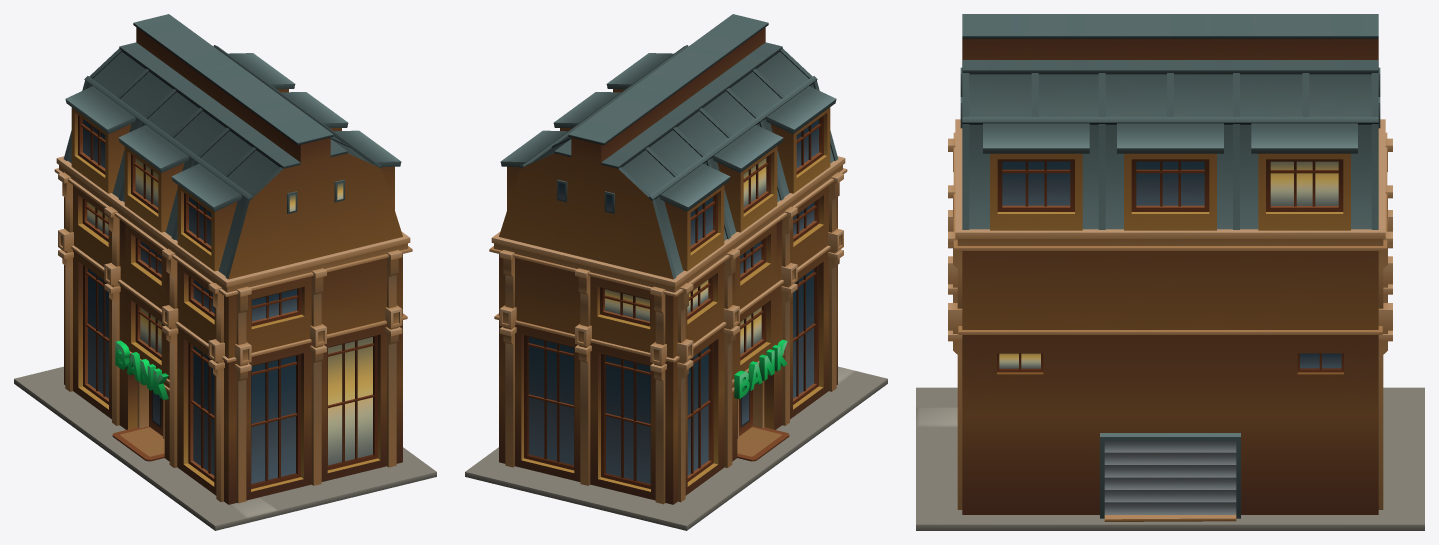
The model's file is Building_10B.fbx.
The picture shows the model from 3 angles, left to right: view 1: azimuth 30°, elevation 25°; view 2: azimuth 150°, elevation 25°; view 3: azimuth 270°, elevation 25°; orthographic projection. The views are drawn at different scales.
Visible parts, largest first — view 1: Building_10B, Window_Lights_10B, Logo_10B; view 2: Building_10B, Window_Lights_10B, Logo_10B; view 3: Building_10B, Window_Lights_10B.
Part boxes in pixels (x1,y1,x2,y2): Building_10B: (14, 14, 436, 530); Window_Lights_10B: (87, 158, 372, 465); Logo_10B: (115, 340, 168, 399); Building_10B: (465, 14, 887, 530); Window_Lights_10B: (605, 158, 766, 354); Logo_10B: (734, 339, 787, 399); Building_10B: (916, 14, 1424, 530); Window_Lights_10B: (999, 161, 1338, 368).
Size of the model in its own units: 14 by 21.1 by 22.
